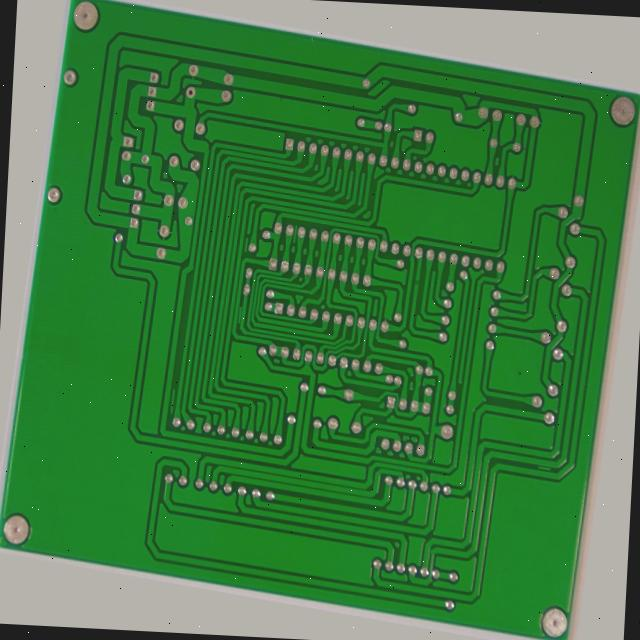spurious_copper: (162, 415, 175, 451), (565, 446, 583, 459), (280, 214, 289, 240), (228, 311, 236, 339), (229, 235, 236, 258)
